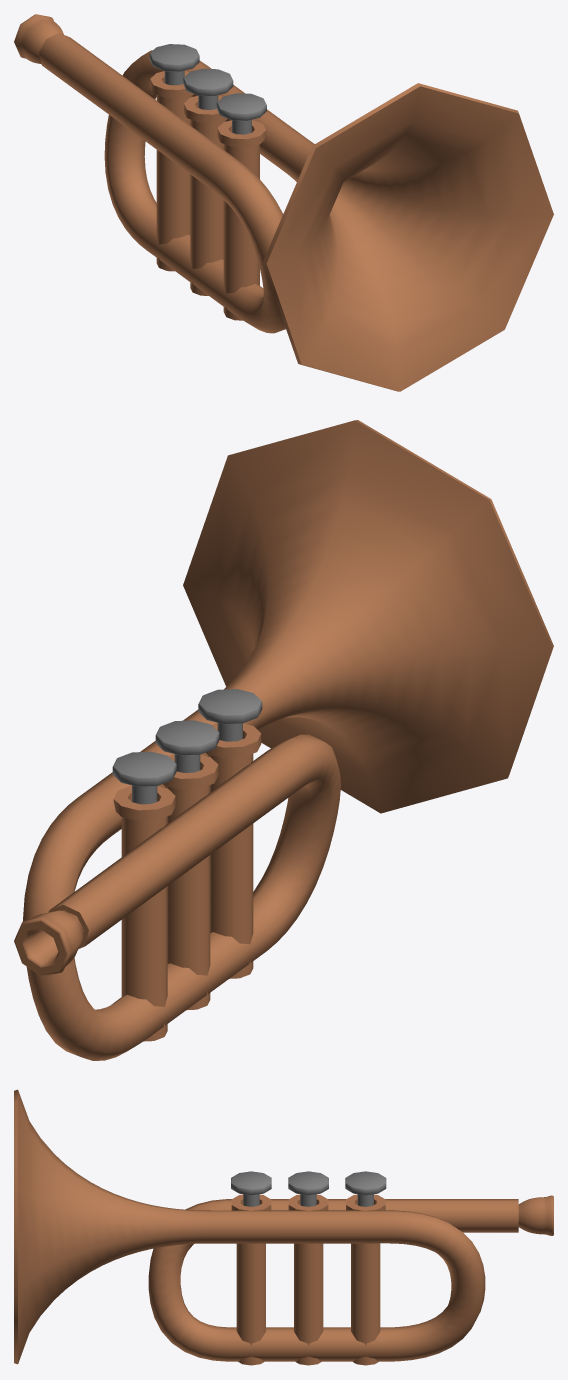
The model's file is Trumpet.fbx.
3 views of the same model, one above another, from view 1: azimuth 30°, elevation 25°; view 2: azimuth 150°, elevation 25°; view 3: azimuth 270°, elevation 25° (orthographic). The views are drawn at different scales.
Visible parts, largest first — view 1: node_id39, node_id32, node_id18, node_id25, node_id6, node_id27, node_id34, node_id20; view 2: node_id39, node_id18, node_id32, node_id25, node_id6, node_id34, node_id27, node_id20, node_id12; view 3: node_id39, node_id32, node_id25, node_id18, node_id6, node_id20, node_id27, node_id34.
Part boxes in pixels (x1,y1,x2,y2): node_id39: [39, 33, 553, 391]; node_id32: [217, 120, 266, 320]; node_id18: [150, 70, 193, 271]; node_id25: [184, 95, 227, 295]; node_id6: [14, 14, 63, 64]; node_id27: [183, 68, 233, 96]; node_id34: [216, 93, 266, 120]; node_id20: [149, 44, 199, 71]; node_id39: [23, 420, 553, 1060]; node_id18: [113, 785, 175, 1041]; node_id32: [206, 723, 261, 978]; node_id25: [163, 754, 218, 1010]; node_id6: [23, 910, 83, 971]; node_id34: [198, 689, 262, 724]; node_id27: [155, 720, 219, 755]; node_id20: [112, 751, 176, 786]; node_id12: [15, 921, 66, 974]; node_id39: [14, 1089, 518, 1364]; node_id32: [231, 1194, 271, 1365]; node_id25: [288, 1194, 328, 1365]; node_id18: [346, 1194, 385, 1365]; node_id6: [518, 1195, 552, 1235]; node_id20: [345, 1171, 386, 1195]; node_id27: [288, 1171, 328, 1195]; node_id34: [231, 1171, 271, 1195].
Bounding box in the file's own units: 0.4834 × 0.512 × 0.9149.
14 materials, 8 textured.
